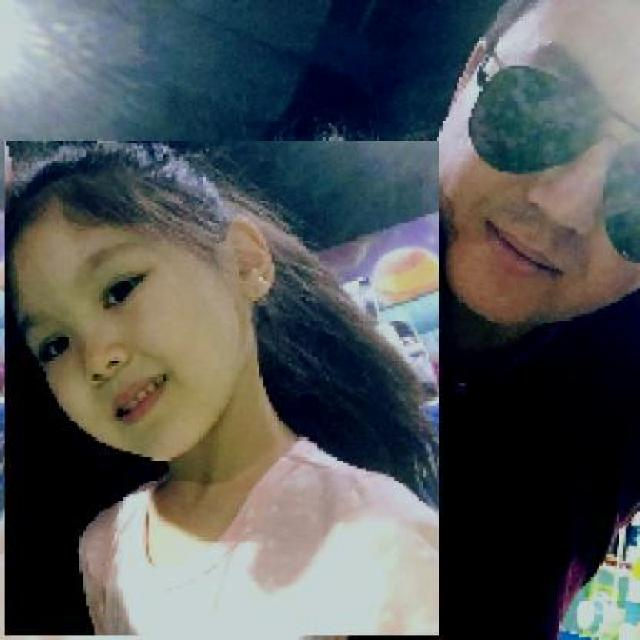child: (3, 140, 440, 637)
